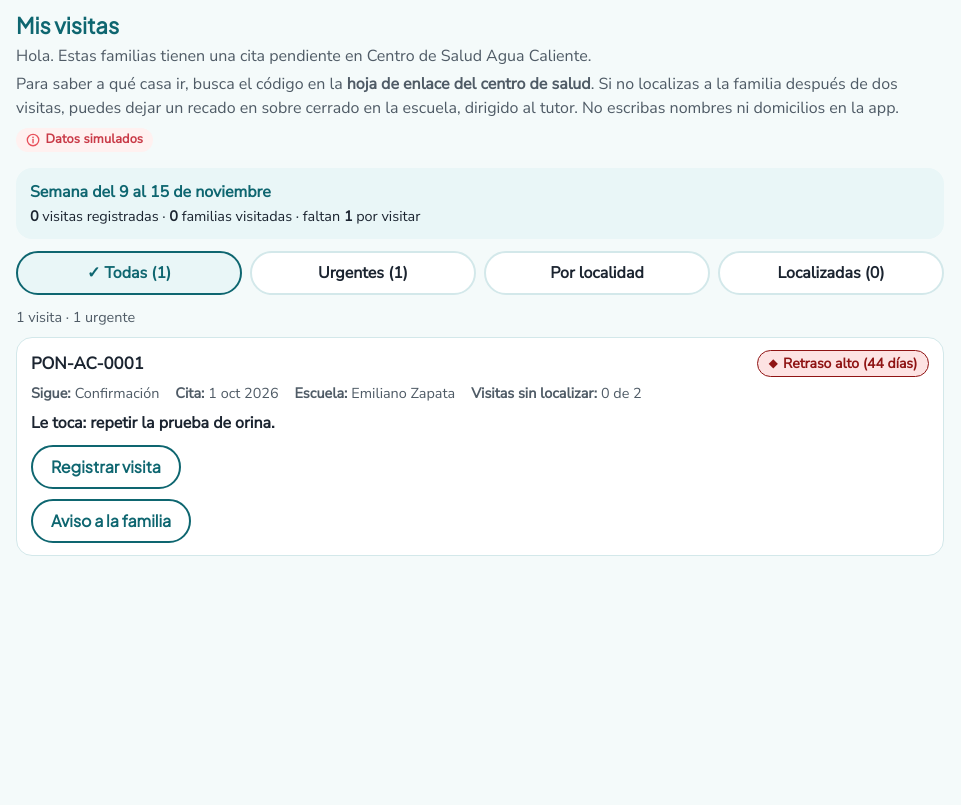
Test case: Aviso a la familia (HU06) › muestra la vista previa con lugar y motivo, etiquetada como simulada
Step 1. Click the button "Aviso a la familia" → {"x": 111, "y": 521}, box x1=31 y1=499 x2=191 y2=543
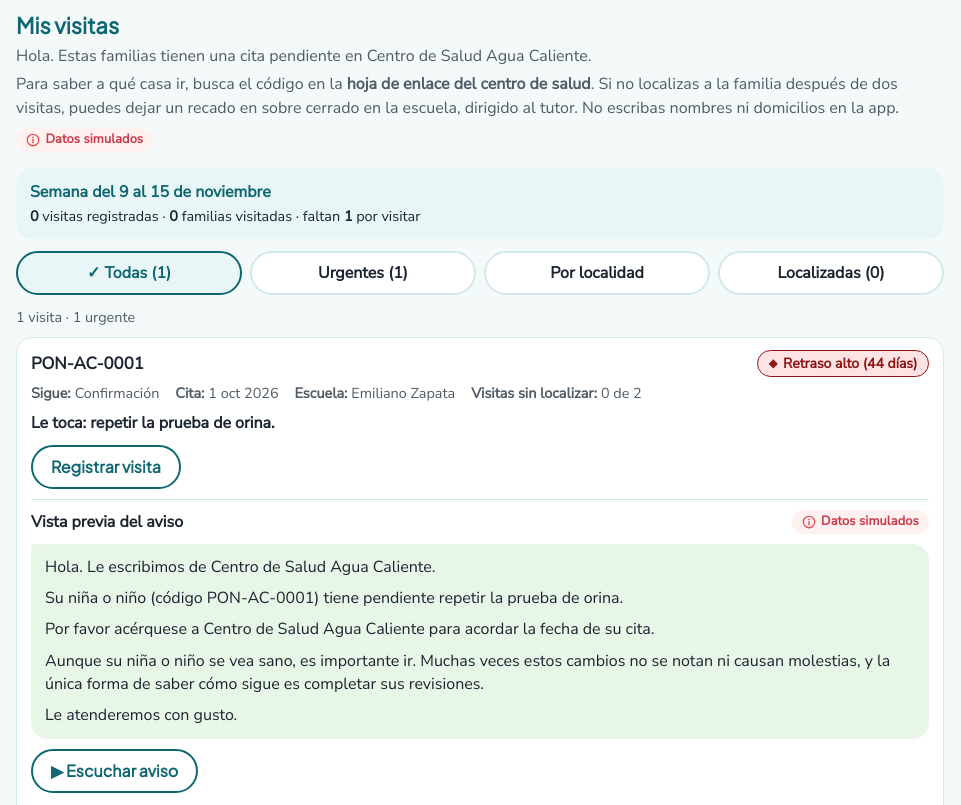
Now the text "Hola. Le escribimos de Centro de Salud Agua Caliente." is shown, box x1=45 y1=556 x2=436 y2=578
Now the text "tiene pendiente repetir la prueba de orina" is shown, box x1=45 y1=587 x2=623 y2=609
Now the text "para acordar la fecha de su cita" is shown, box x1=45 y1=618 x2=654 y2=640
